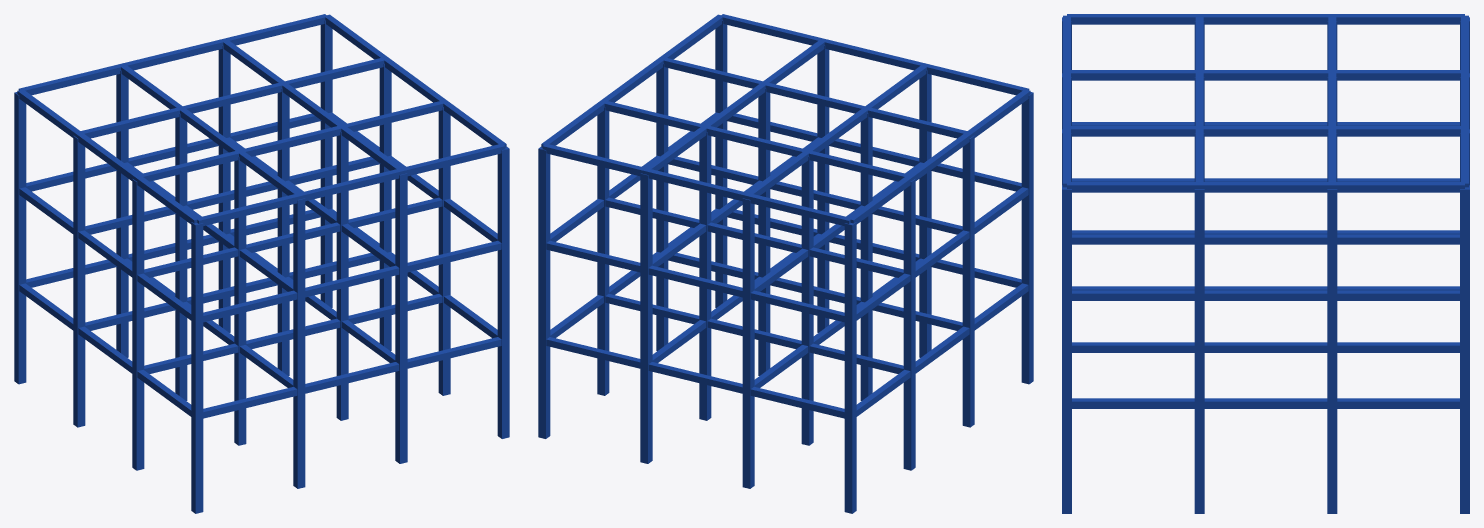
File: bne_play_climb.dae
3 renders of one model, left to right at view 1: azimuth 30°, elevation 25°; view 2: azimuth 150°, elevation 25°; view 3: azimuth 270°, elevation 25°, orthographic. The views are drawn at different scales.
Visible parts, largest first — view 1: bne_play_climb_0; view 2: bne_play_climb_0; view 3: bne_play_climb_0.
Boxes of the visible parts, x1,y1,x2,y2 form: bne_play_climb_0: [14, 14, 509, 513]; bne_play_climb_0: [538, 14, 1033, 513]; bne_play_climb_0: [1062, 14, 1469, 513].
Size of the model in its own units: 2.05 by 2.05 by 1.82.
